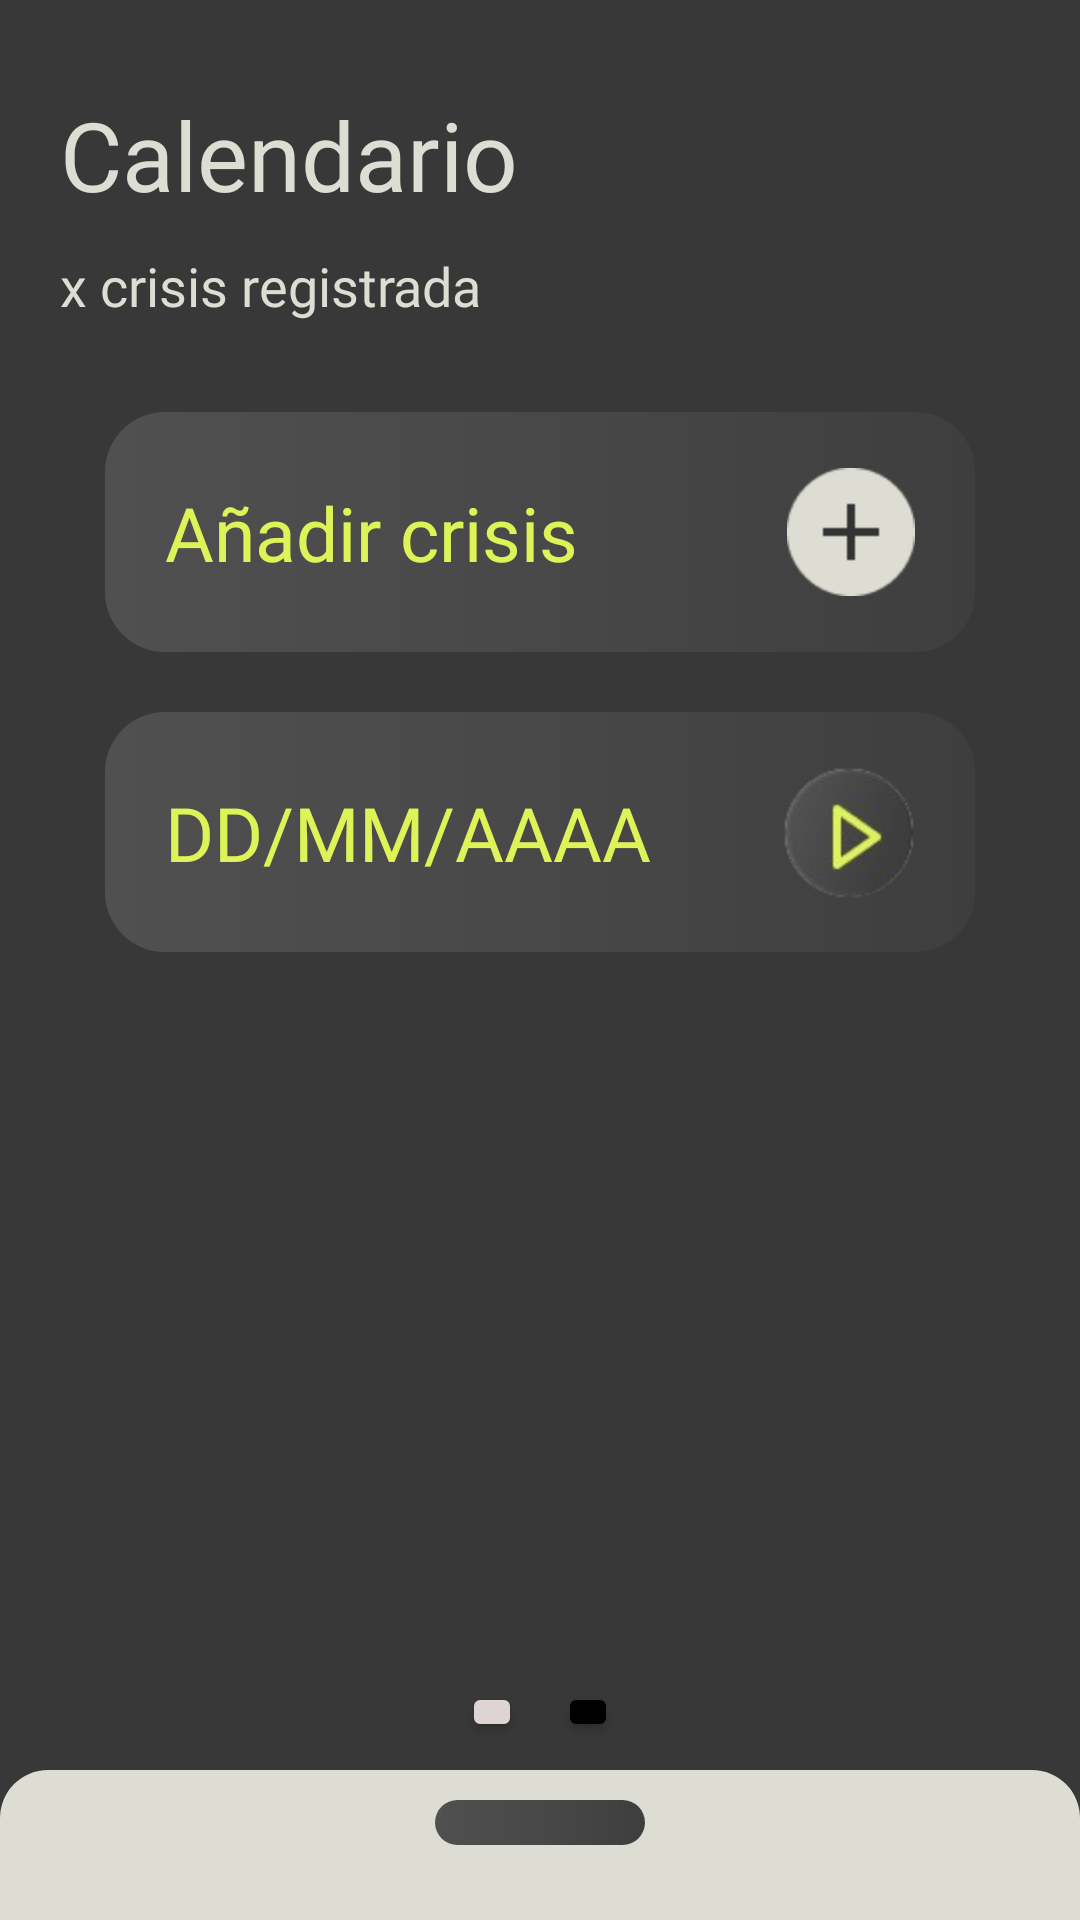

Where icons sit on this 1080 x 1920 app screen, as (x1, y1, x2, y2):
add butt: (787, 468, 915, 596)
right arrow: (785, 769, 913, 890)
